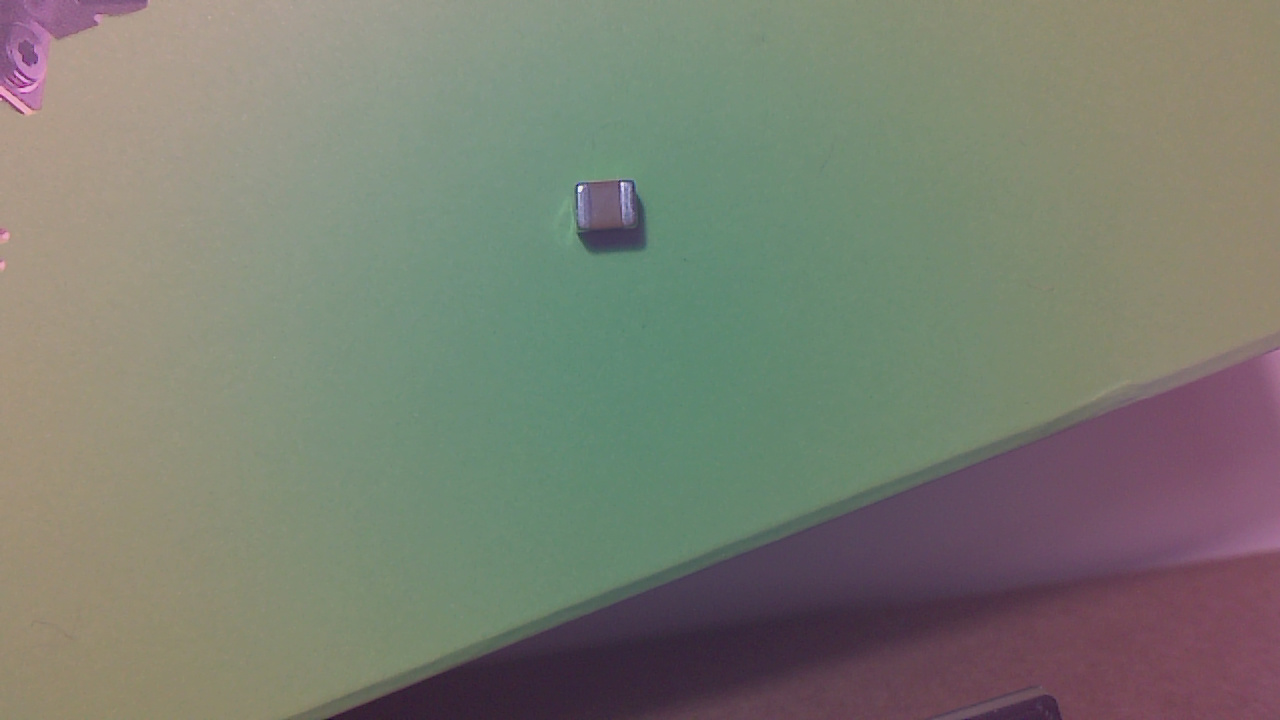Condensator: (576, 184, 648, 243)
